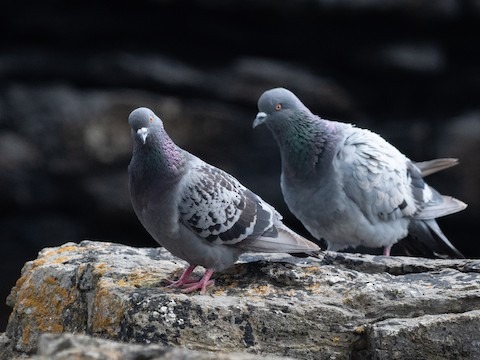pigeon: (119, 103, 328, 300), (248, 85, 468, 271)
